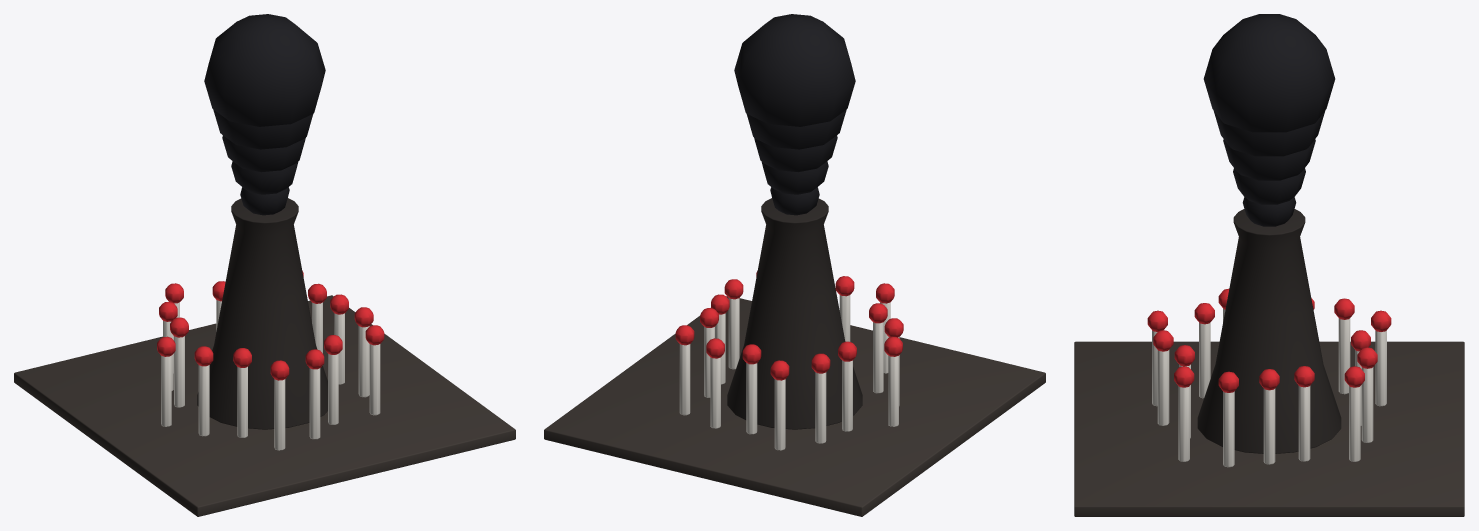
Rendered from fonte_hidrotermal.glb.
3 views of the same model, side by side, from view 1: azimuth 30°, elevation 25°; view 2: azimuth 150°, elevation 25°; view 3: azimuth 270°, elevation 25° (orthographic). The views are drawn at different scales.
Parts seen in each view (by area): view 1: fonte_hidrotermal; view 2: fonte_hidrotermal; view 3: fonte_hidrotermal.
Boxes of the visible parts, <box> form: fonte_hidrotermal: <box>14,14,515,516</box>; fonte_hidrotermal: <box>544,14,1045,516</box>; fonte_hidrotermal: <box>1074,14,1464,516</box>.
Bounding box in the file's own units: 3.2 × 3.76 × 3.2.
